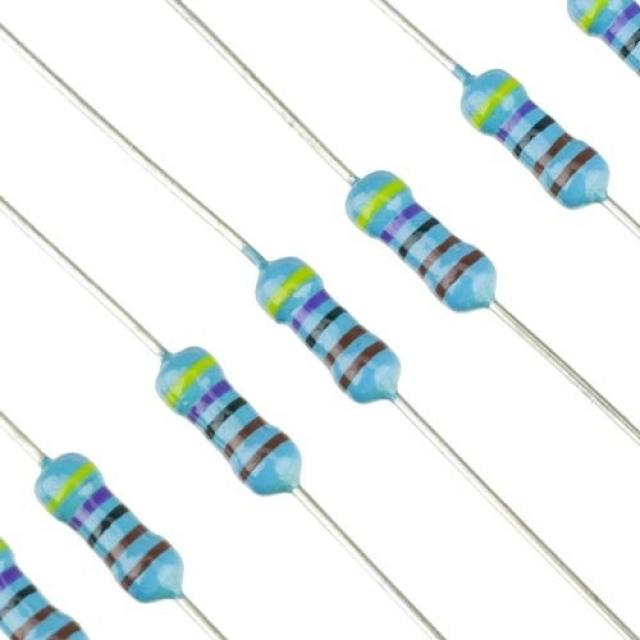Resistor: (34, 454, 186, 605), (250, 252, 398, 406), (156, 349, 298, 497), (348, 170, 495, 312), (459, 68, 608, 207)
